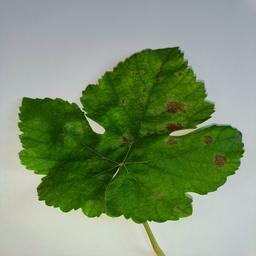Powdery-Mildew: (142, 100, 192, 138), (166, 63, 195, 96), (60, 120, 87, 149), (206, 133, 223, 150), (211, 157, 228, 174), (145, 189, 161, 205), (85, 199, 101, 215)
